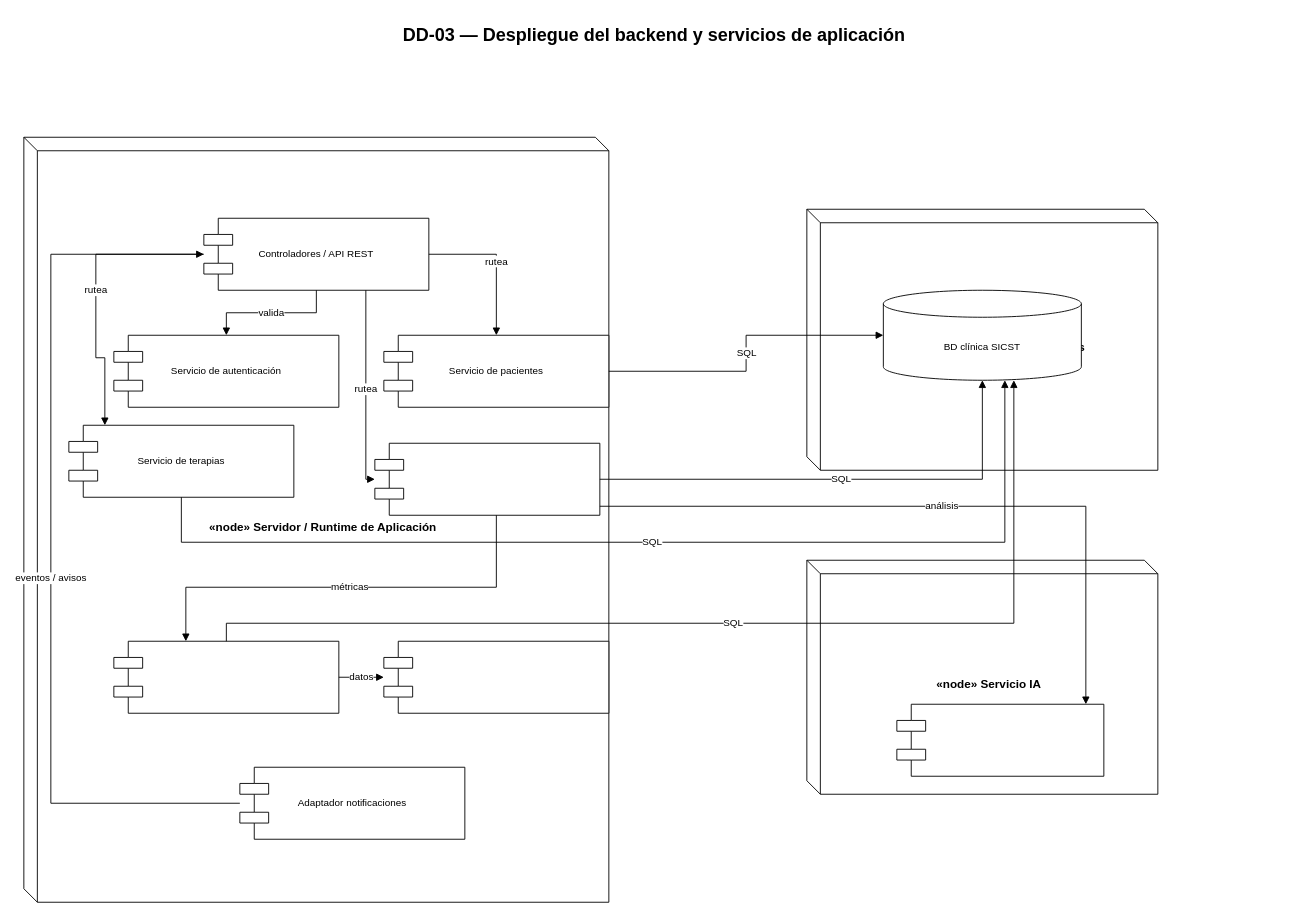
Image size: 1300x918. Some labels were removed from this diagram. Here are the shapes that lost their labels. From the top down, the centre of each, then its label:
[487,478]: Servicio de sesiones
[226,676]: Servicio de seguimiento
[496,676]: Servicio de reportes
[1000,739]: Motor de análisis
